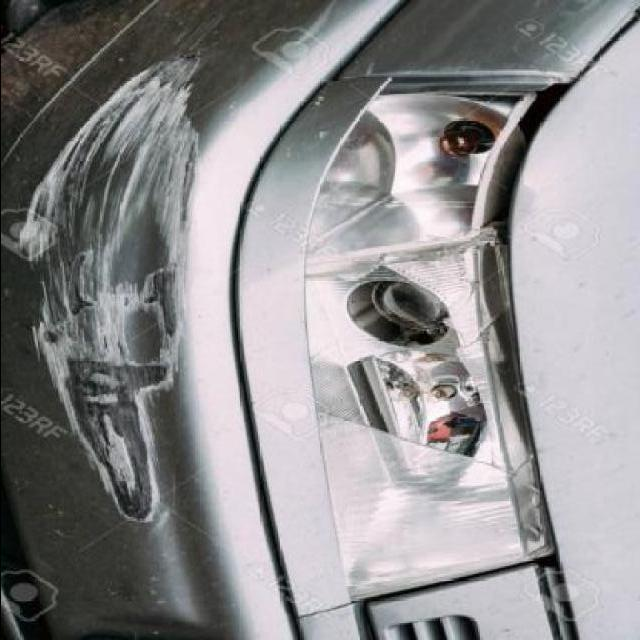Headlight-Damage: (305, 53, 552, 530)
Taillight-Damage: (307, 89, 539, 275)
rear-bumper-scratch: (22, 48, 208, 537)
